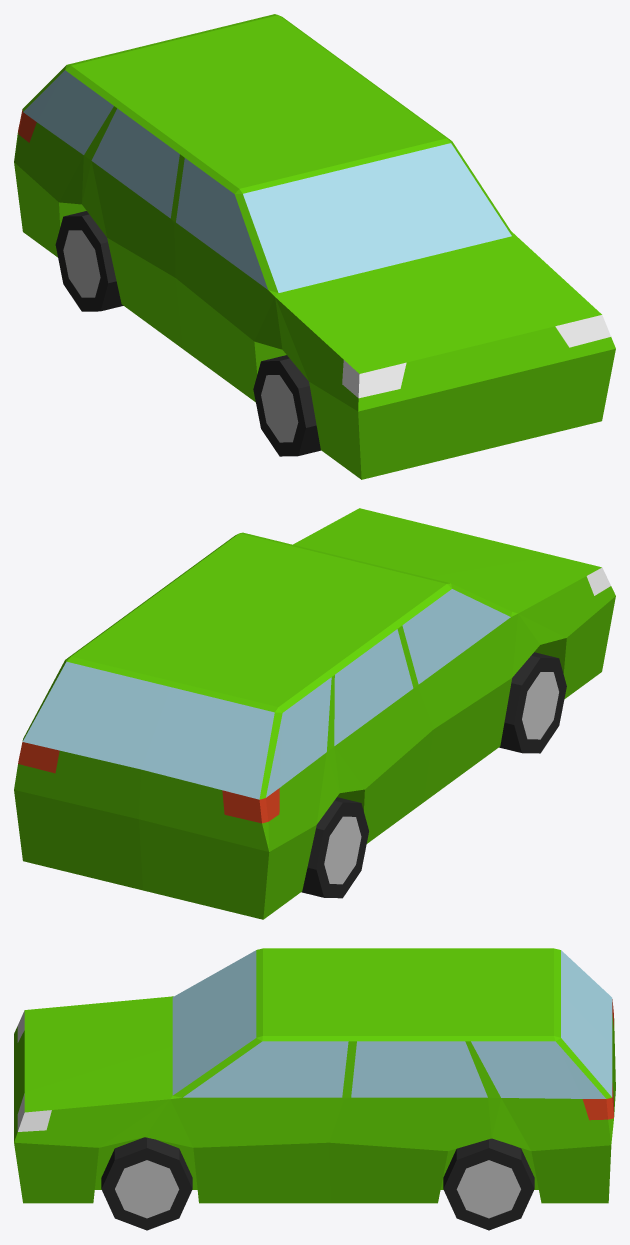
The model's file is Wagon.fbx.
3 views of the same model, one above another, from view 1: azimuth 30°, elevation 25°; view 2: azimuth 150°, elevation 25°; view 3: azimuth 270°, elevation 25° (orthographic). The views are drawn at different scales.
Visible parts, largest first — view 1: Wagon; view 2: Wagon; view 3: Wagon.
Boxes of the visible parts, bbox=[...] form: Wagon: bbox=[14, 14, 615, 479]; Wagon: bbox=[14, 508, 615, 919]; Wagon: bbox=[14, 948, 615, 1230].
Bounding box in the file's own units: 350 × 272 × 810.
